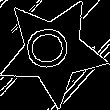O_E: (26, 27, 80, 75)
